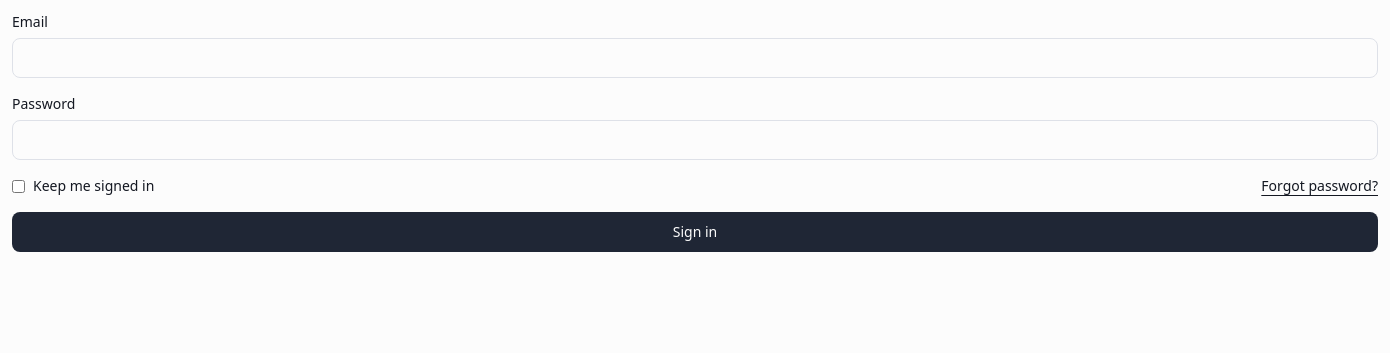
Test: LoginForm › submits normalized values with the destination and shows server errors
Type "Ada@Example.com" into the field labelled "Email". click: (695, 58)
box: [12,38,1378,78]
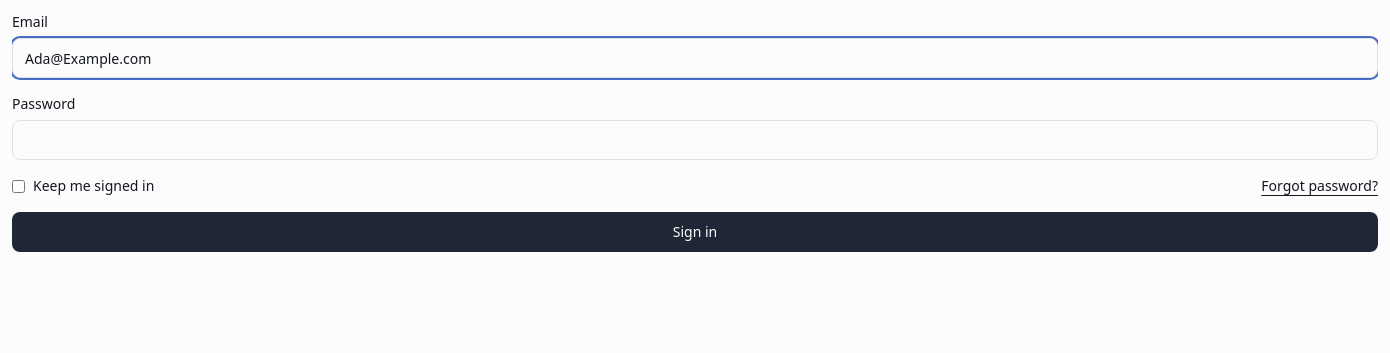
Type "secret" into the password field labelled "Password". click: (695, 140)
box: [12,120,1378,160]
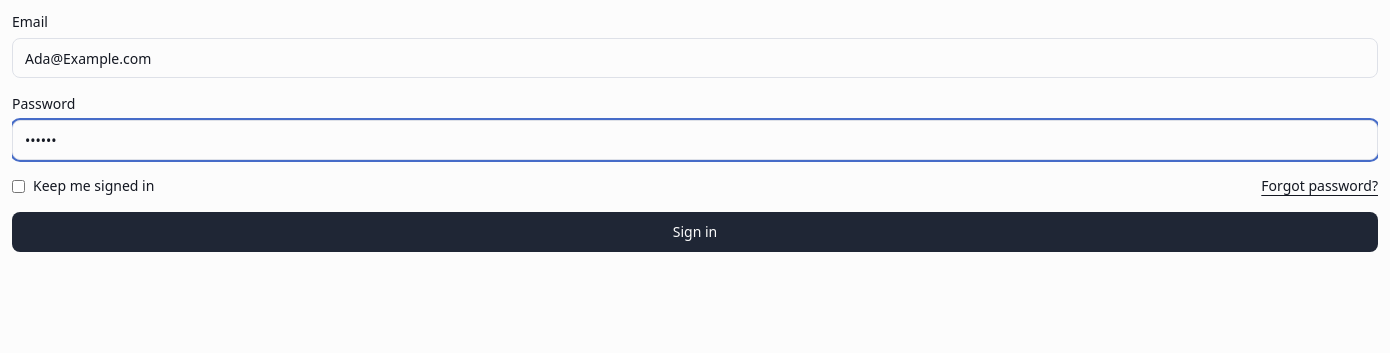
Click the checkbox labelled "Keep me signed in". click: (18, 186)
box: [12,180,25,192]
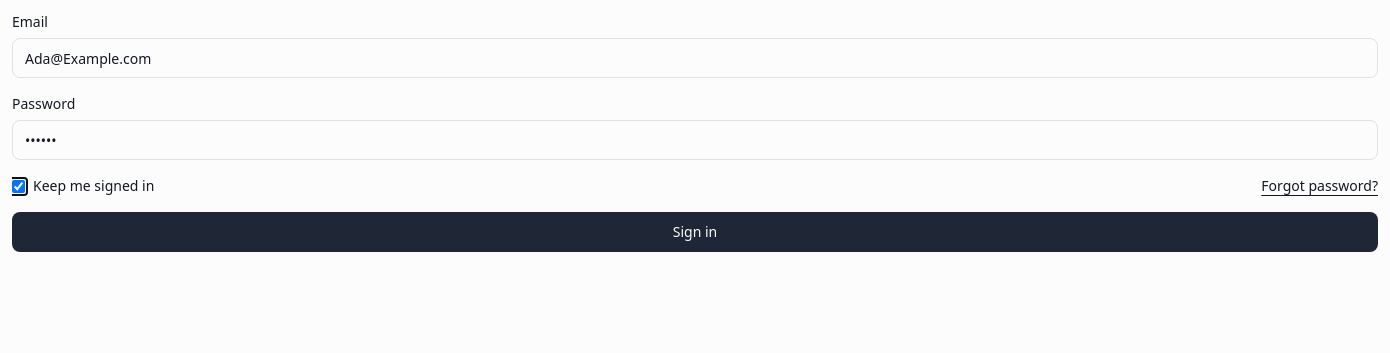
Click the button "Sign in". click: (695, 232)
box: [12,212,1378,252]
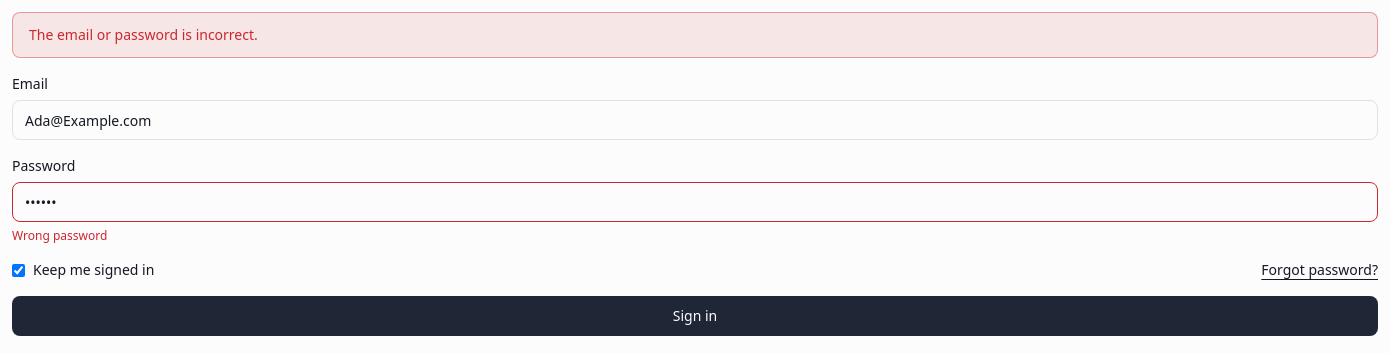
Result: the text "The email or password is incorrect." is shown at [12,12,1378,58]
Result: the text "Wrong password" is shown at [12,227,107,244]
